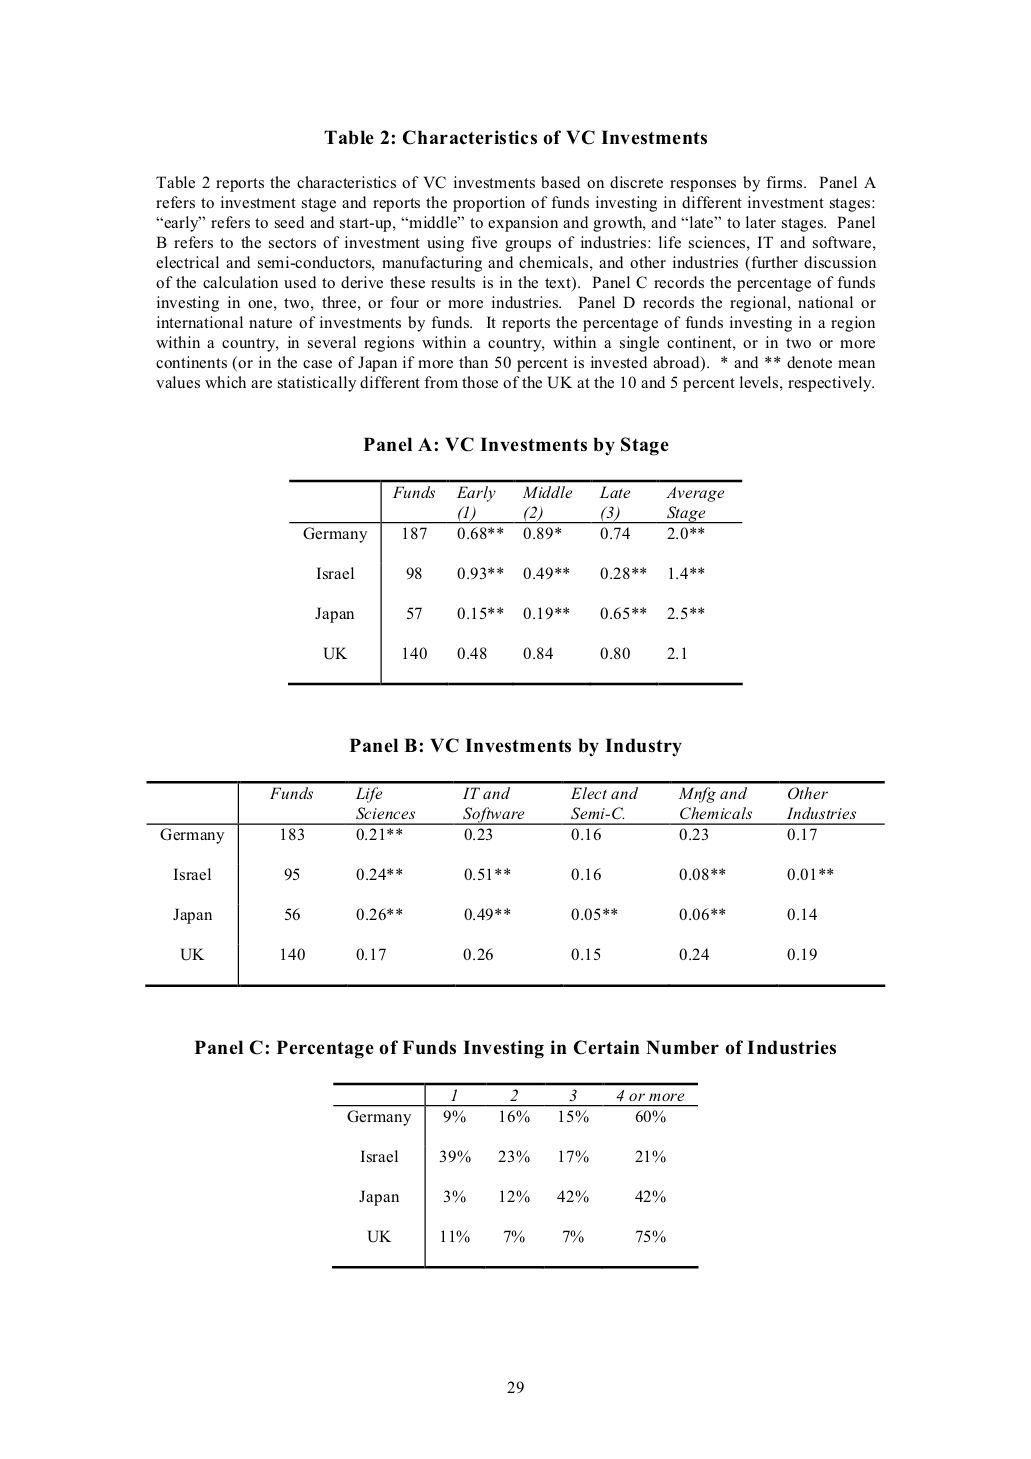Table: (145, 780, 885, 987), (288, 479, 742, 686), (333, 1081, 698, 1269)
